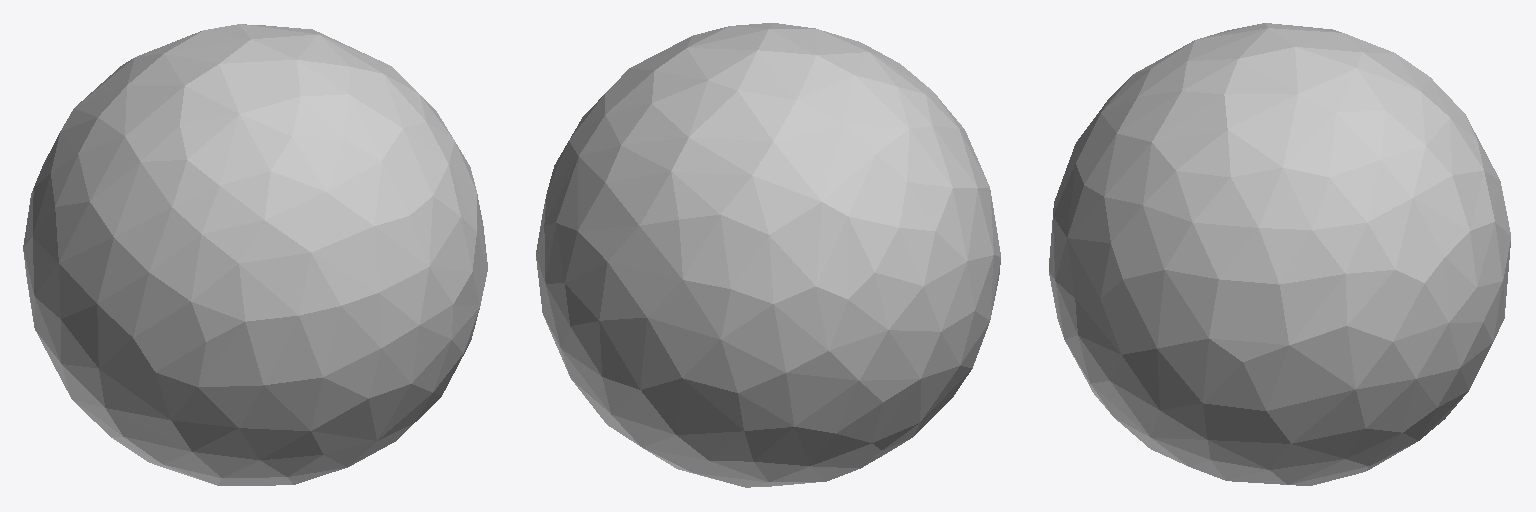
3 views of the same model, side by side, from view 1: azimuth 30°, elevation 25°; view 2: azimuth 150°, elevation 25°; view 3: azimuth 270°, elevation 25° (orthographic).
Parts seen in each view (by area): view 1: wooden_sphere; view 2: wooden_sphere; view 3: wooden_sphere.
Part boxes in pixels (x1,y1,x2,y2): wooden_sphere: (23,24,487,485); wooden_sphere: (536,23,1000,487); wooden_sphere: (1049,23,1510,485).
Size of the model in its own units: 7 by 7 by 6.97.